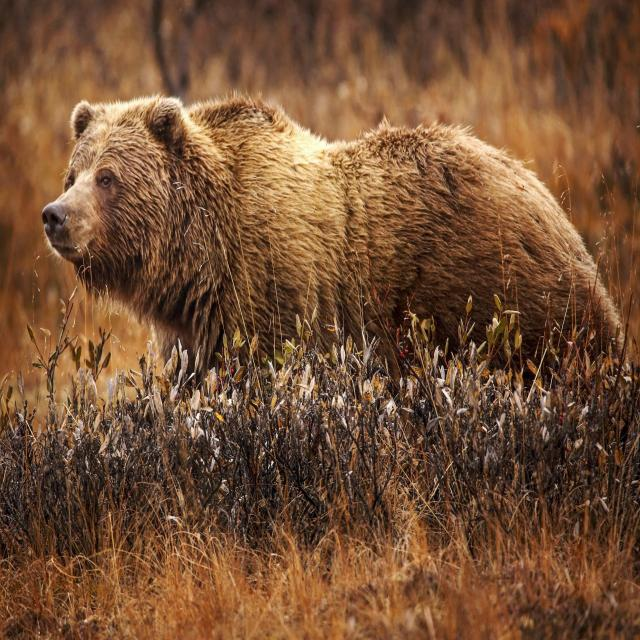Bear: (39, 95, 624, 377)
